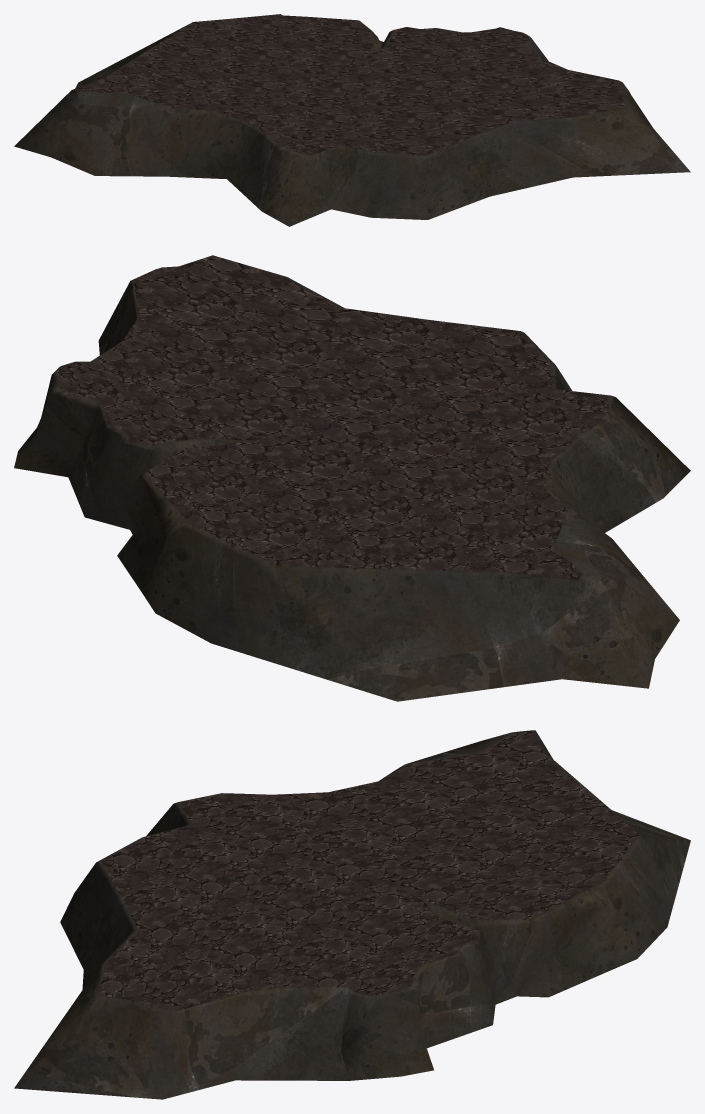
Rendered from SM_Ground_Island_03.fbx.
The picture shows the model from 3 angles, top to bottom: view 1: azimuth 30°, elevation 25°; view 2: azimuth 150°, elevation 25°; view 3: azimuth 270°, elevation 25°; orthographic projection. The views are drawn at different scales.
Visible parts, largest first — view 1: SM_Ground_Islands_03; view 2: SM_Ground_Islands_03; view 3: SM_Ground_Islands_03.
Part boxes in pixels (x1=…): SM_Ground_Islands_03: x1=14, y1=14, x2=690, y2=226; SM_Ground_Islands_03: x1=14, y1=255, x2=690, y2=701; SM_Ground_Islands_03: x1=14, y1=730, x2=690, y2=1099.
Bounding box in the file's own units: 30.53 × 2.98 × 26.01.
2 materials, 2 textured.
